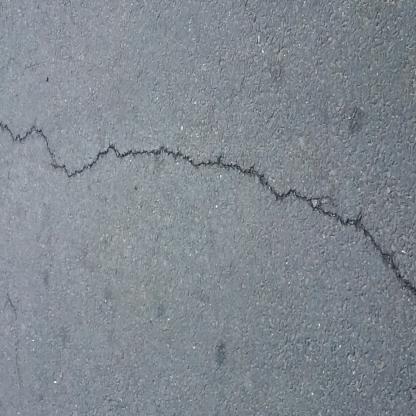Cracks: (0, 74, 416, 299)
